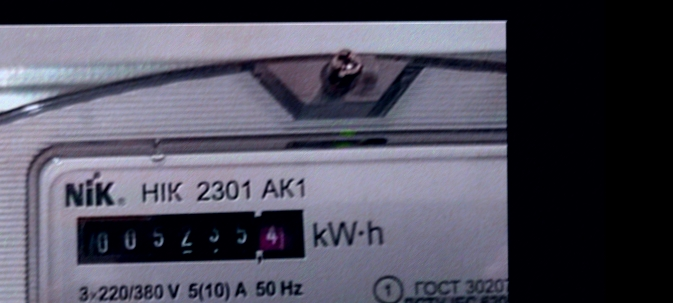0: (95, 228, 110, 253), (123, 226, 138, 250)
2: (178, 221, 194, 248)
3: (204, 218, 222, 243)
4: (262, 218, 281, 247)
5: (232, 217, 249, 245), (151, 223, 165, 248)
screen: (63, 198, 314, 273)
